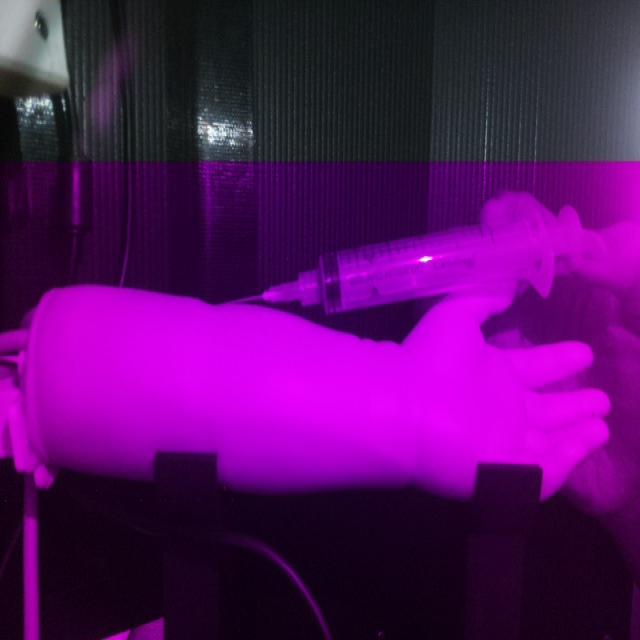Outside: (219, 185, 579, 318)
